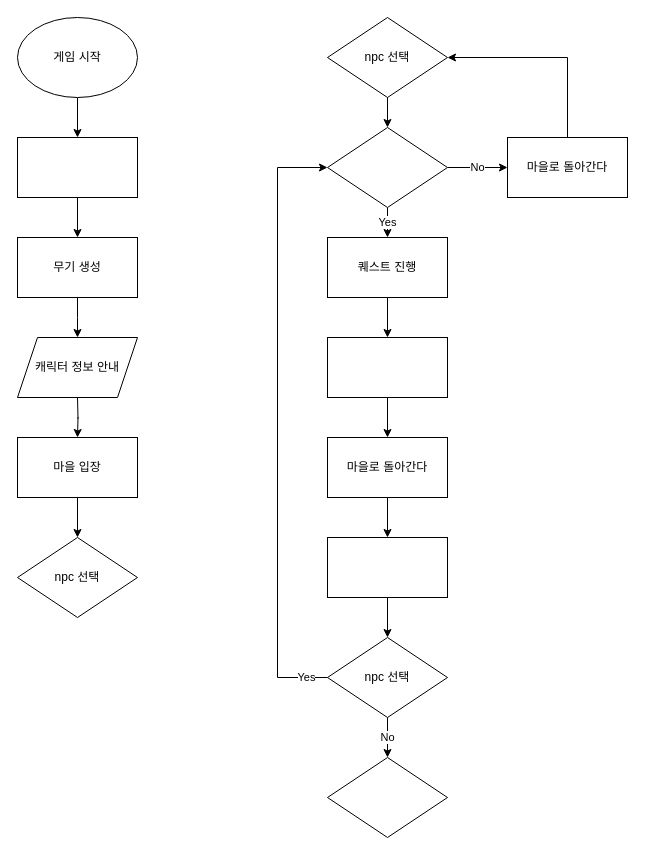
The diagram is 645 pixels wide and 855 high, and some of its shapes have lost their labels. Each missing label, with the centre of its shape:
"npc에게 퀘스트 완료" belongs at point 387,567.
"게임 종료" belongs at point 387,797.
"용사 생성" belongs at point 77,167.
"퀘스트 수주" belongs at point 387,167.
"퀘스트 임무 완료" belongs at point 387,367.
